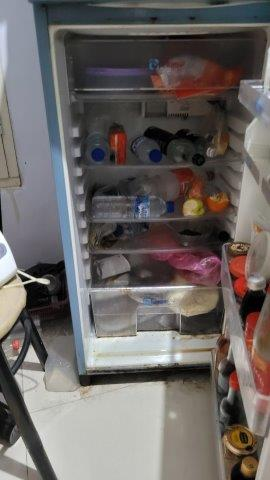botolkaca: (143, 126, 206, 170)
